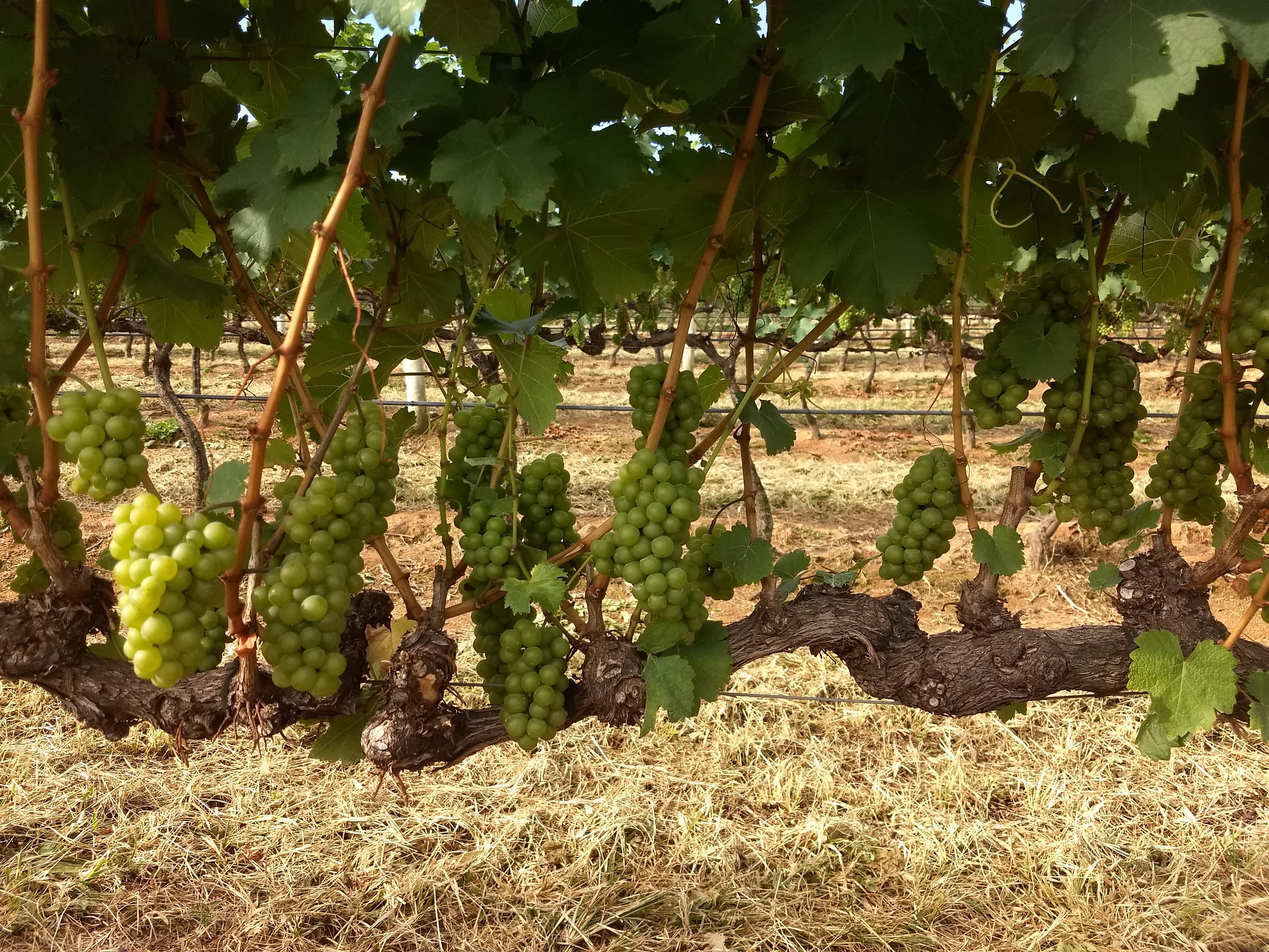leaf: (784, 173, 958, 312), (1061, 0, 1224, 141), (808, 47, 962, 181), (519, 181, 672, 307), (524, 73, 646, 207), (216, 128, 339, 259), (431, 119, 559, 221), (635, 0, 756, 100), (49, 36, 160, 144), (1076, 110, 1199, 207), (1127, 630, 1236, 738), (1106, 194, 1205, 302), (780, 0, 908, 82), (130, 243, 226, 348), (911, 0, 1004, 94), (548, 122, 646, 206), (372, 59, 459, 150), (490, 337, 570, 435), (276, 71, 343, 172), (1017, 0, 1103, 76), (978, 88, 1059, 168), (964, 179, 1016, 297), (999, 314, 1079, 380), (392, 249, 461, 320), (1203, 0, 1268, 75), (310, 694, 379, 763), (641, 655, 698, 735), (420, 0, 501, 55), (139, 297, 224, 349), (678, 621, 732, 701), (303, 321, 369, 380), (712, 524, 773, 585), (1136, 697, 1189, 761), (501, 562, 566, 613), (370, 327, 430, 378), (740, 400, 795, 455), (0, 294, 31, 386), (971, 524, 1024, 576), (337, 190, 373, 259), (353, 0, 424, 34), (0, 420, 42, 477), (205, 460, 248, 505), (484, 286, 532, 326), (773, 549, 809, 600), (1029, 431, 1068, 478), (1246, 670, 1268, 741), (636, 620, 681, 654), (989, 426, 1041, 453), (470, 485, 514, 516), (697, 363, 727, 408), (1122, 500, 1160, 533), (773, 549, 809, 578), (264, 438, 296, 467), (1089, 562, 1120, 591), (1251, 425, 1268, 473), (1187, 421, 1215, 450), (1240, 536, 1265, 559), (504, 327, 535, 334), (947, 253, 954, 270), (5, 40, 19, 47), (485, 457, 496, 465), (4, 50, 13, 57), (1024, 25, 1025, 34), (477, 463, 480, 464), (432, 0, 434, 1), (984, 58, 984, 61), (341, 275, 341, 276)
